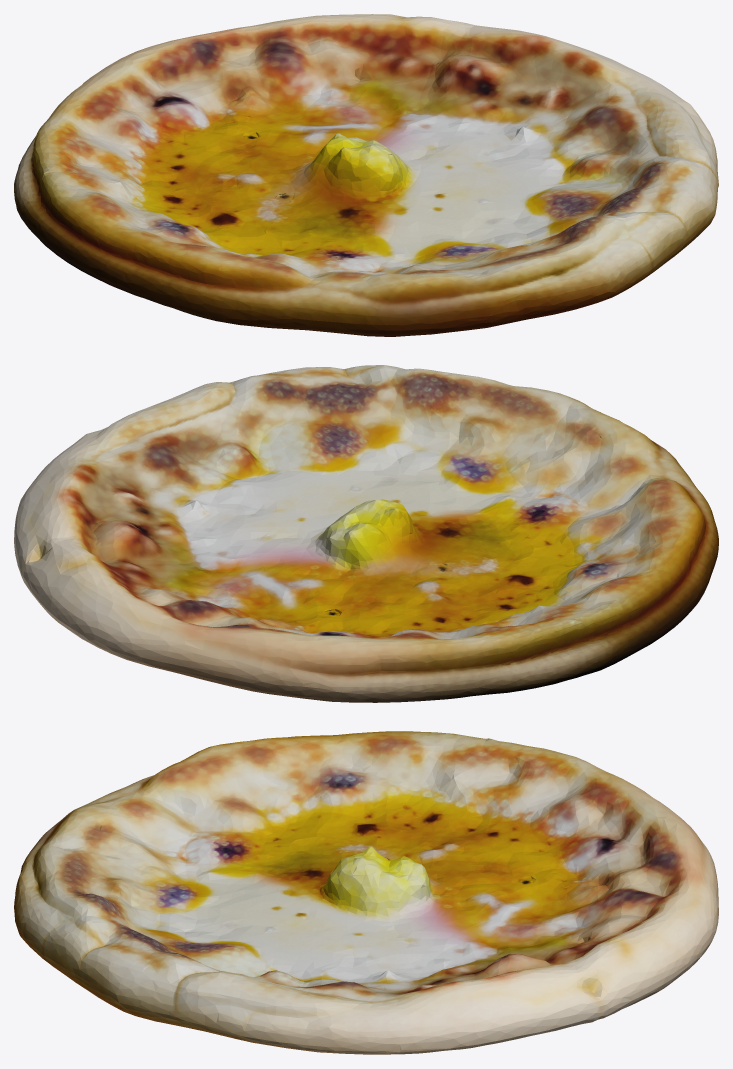
The model's file is Aloo_Paratha.glb.
3 renders of one model, top to bottom at view 1: azimuth 30°, elevation 25°; view 2: azimuth 150°, elevation 25°; view 3: azimuth 270°, elevation 25°, orthographic.
Visible parts, largest first — view 1: world; view 2: world; view 3: world.
Boxes of the visible parts, <box> form: world: <box>14,14,718,336</box>; world: <box>14,365,718,702</box>; world: <box>14,731,718,1054</box>.
Size of the model in its own units: 0.9998 by 0.1091 by 0.9899.
1 material, 1 textured.
